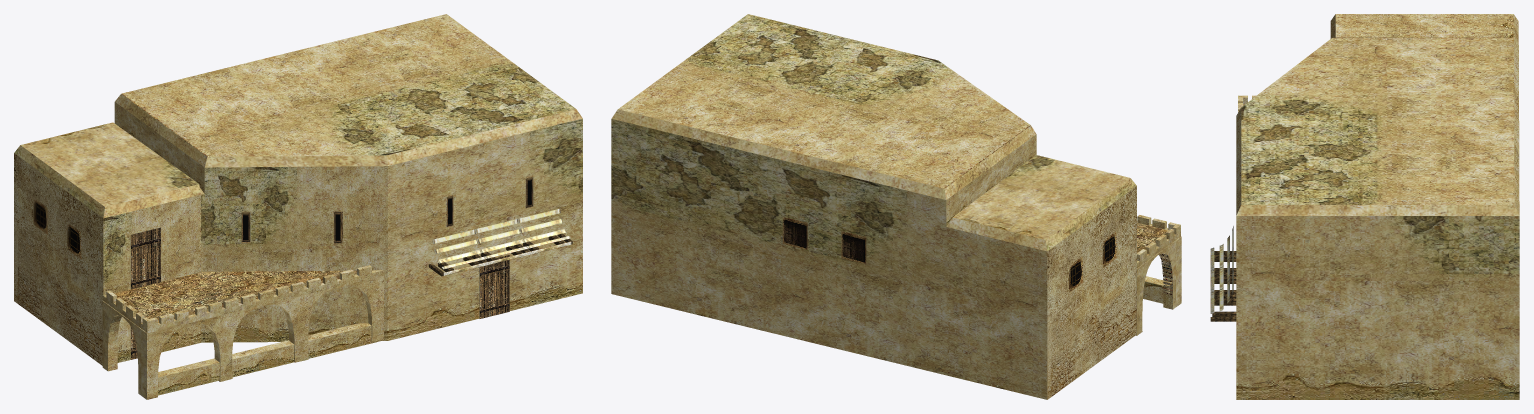
Rendered from pers_alt_build_04.dae.
3 renders of one model, left to right at view 1: azimuth 30°, elevation 25°; view 2: azimuth 150°, elevation 25°; view 3: azimuth 270°, elevation 25°, orthographic. The views are drawn at different scales.
Parts seen in each view (by area): view 1: houseFour; view 2: houseFour; view 3: houseFour.
Boxes of the visible parts, x1,y1,x2,y2 form: houseFour: (14,14,582,399); houseFour: (611,14,1181,399); houseFour: (1210,14,1519,399).
Size of the model in its own units: 28.01 by 16.4 by 11.35.
